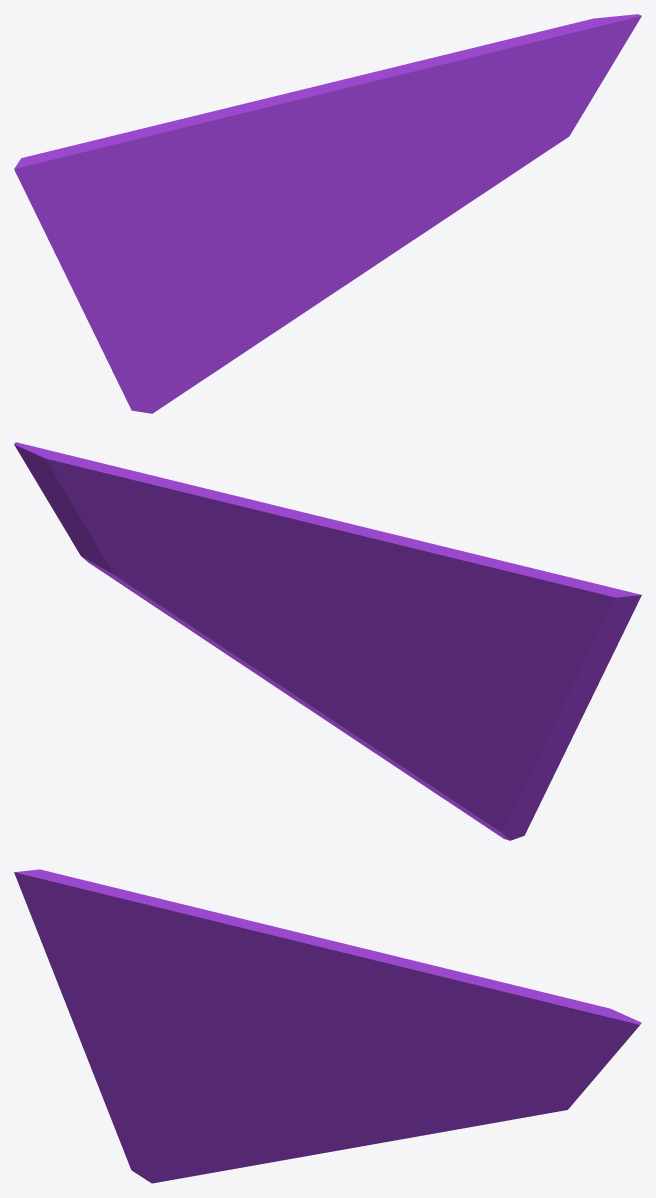
Rendered from Window_5_9_chunks.fbx.
The picture shows the model from 3 angles, top to bottom: view 1: azimuth 30°, elevation 25°; view 2: azimuth 150°, elevation 25°; view 3: azimuth 330°, elevation 25°; orthographic projection.
Visible parts, largest first — view 1: Window_5_9_0, Window_5_9_10, Window_5_9_6, Window_5_9_5, Window_5_9_12, Window_5_9_8, Window_5_9_2, Window_5_9_1, Window_5_9_11, Window_5_9_7, Window_5_9_9; view 2: Window_5_9_0, Window_5_9_10, Window_5_9_5, Window_5_9_6, Window_5_9_12, Window_5_9_8, Window_5_9_9; view 3: Window_5_9_0, Window_5_9_10, Window_5_9_6, Window_5_9_5, Window_5_9_12, Window_5_9_8, Window_5_9_2, Window_5_9_1, Window_5_9_11, Window_5_9_7, Window_5_9_9.
Boxes of the visible parts, x1,y1,x2,y2 form: Window_5_9_0: [350, 14, 641, 269]; Window_5_9_10: [203, 53, 455, 194]; Window_5_9_6: [136, 228, 367, 413]; Window_5_9_5: [35, 212, 181, 411]; Window_5_9_12: [14, 114, 204, 198]; Window_5_9_8: [141, 214, 353, 272]; Window_5_9_2: [194, 191, 354, 217]; Window_5_9_1: [28, 195, 187, 214]; Window_5_9_11: [156, 119, 214, 183]; Window_5_9_7: [140, 214, 204, 300]; Window_5_9_9: [129, 174, 224, 196]; Window_5_9_0: [14, 442, 295, 695]; Window_5_9_10: [186, 487, 447, 635]; Window_5_9_5: [450, 631, 620, 838]; Window_5_9_6: [279, 661, 515, 840]; Window_5_9_12: [435, 550, 641, 635]; Window_5_9_8: [287, 635, 510, 710]; Window_5_9_9: [415, 605, 515, 635]; Window_5_9_0: [349, 974, 641, 1145]; Window_5_9_10: [203, 913, 469, 1060]; Window_5_9_6: [136, 1069, 366, 1183]; Window_5_9_5: [35, 925, 181, 1172]; Window_5_9_12: [14, 869, 220, 956]; Window_5_9_8: [141, 979, 352, 1096]; Window_5_9_2: [193, 987, 353, 1083]; Window_5_9_1: [28, 908, 187, 996]; Window_5_9_11: [156, 912, 213, 969]; Window_5_9_7: [139, 978, 203, 1084]; Window_5_9_9: [129, 955, 224, 999].
Size of the model in its own units: 1050 by 445 by 27.2.
